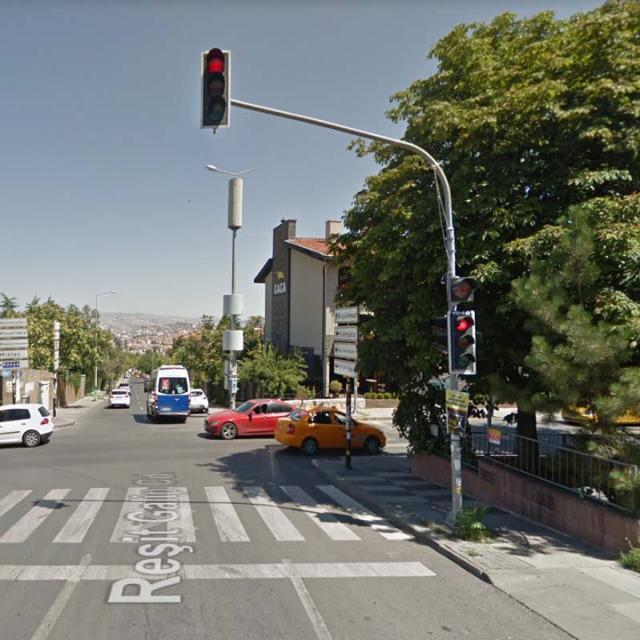kirmizi: (200, 52, 232, 126), (449, 312, 476, 378)
